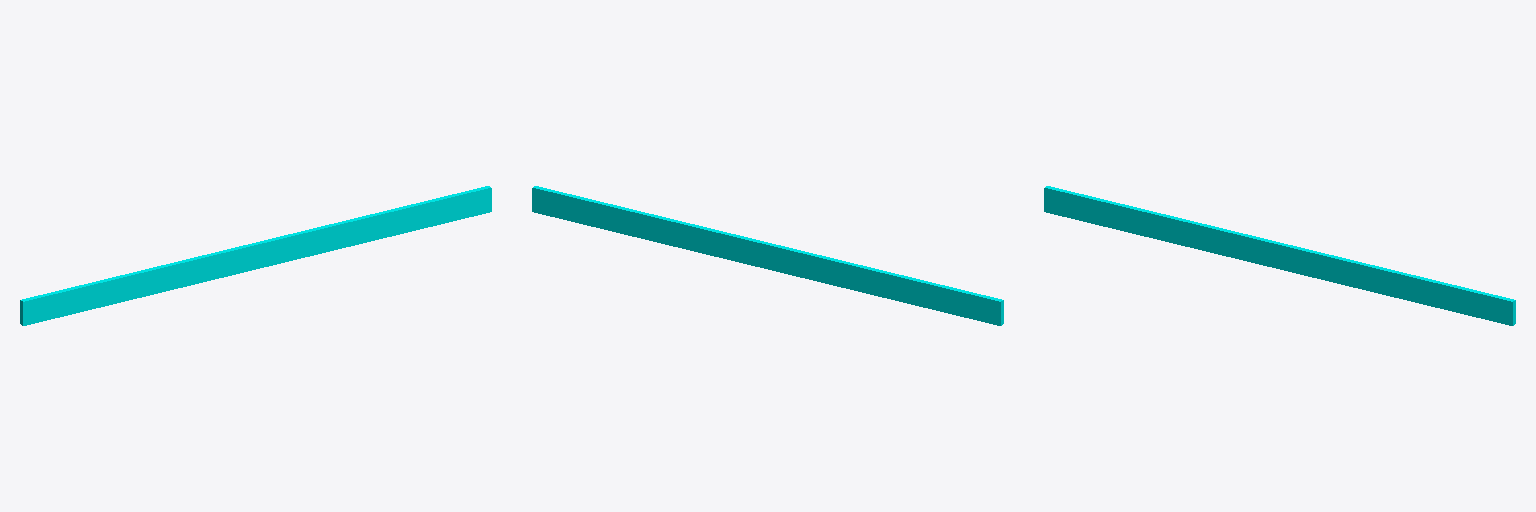
URDF robot description (ruler):
<?xml version="1.0"?>
<robot name="ruler">
  <link name="base_link">
    <inertial>
      <mass value="1"/>
      <origin xyz="0 1 0" rpy="0 0 0"/>
      <inertia ixx="1" ixy="0" ixz="0" iyy="1" iyz="0" izz="1"/>
    </inertial>
    <visual>
      <geometry>
        <box size="10 0.1 0.5"/>
      </geometry>
      <material name="Cyan">
        <color rgba="0 1.0 1.0 1.0"/>
      </material>
    </visual>
  </link>
</robot>

--- Facts derived from the render (not from the file) ---
3 views of the same robot in one strip: view 1: azimuth 30°, elevation 25°; view 2: azimuth 150°, elevation 25°; view 3: azimuth 330°, elevation 25° (orthographic).
Model ruler with 1 links and 0 joints (none), rooted at base_link, posed every joint at zero.
Visible links, largest first — view 1: base_link; view 2: base_link; view 3: base_link.
Boxes of the visible links, box(x1,y1,x2,y2) form: base_link: box(20, 186, 491, 325); base_link: box(532, 186, 1003, 325); base_link: box(1044, 186, 1515, 325).
Size in the robot's own frame: 10 by 0.1 by 0.5 metres.
Geometry: primitives only (box / cylinder / sphere), no mesh files.